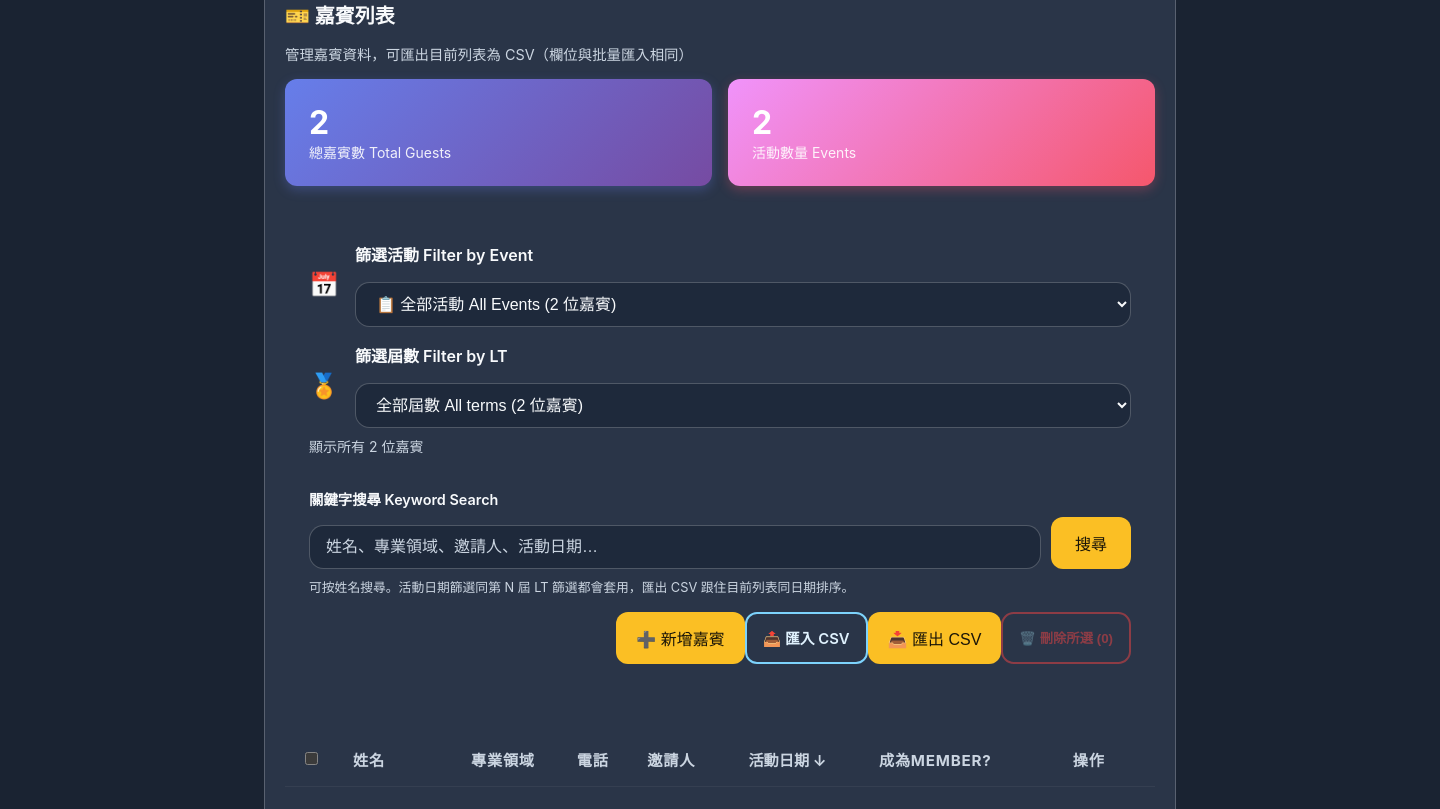
Scenario: GuestsPage CSV export › filters the list by the stored LT term
The width and height of the screenshot is (1440, 809).
(page scrolled)
Step 1. Select "第 3 屆 LT (1 位嘉賓)" in the dropdown labelled "篩選屆數 Filter by LT" → [743, 405], box [355,383,1131,428]
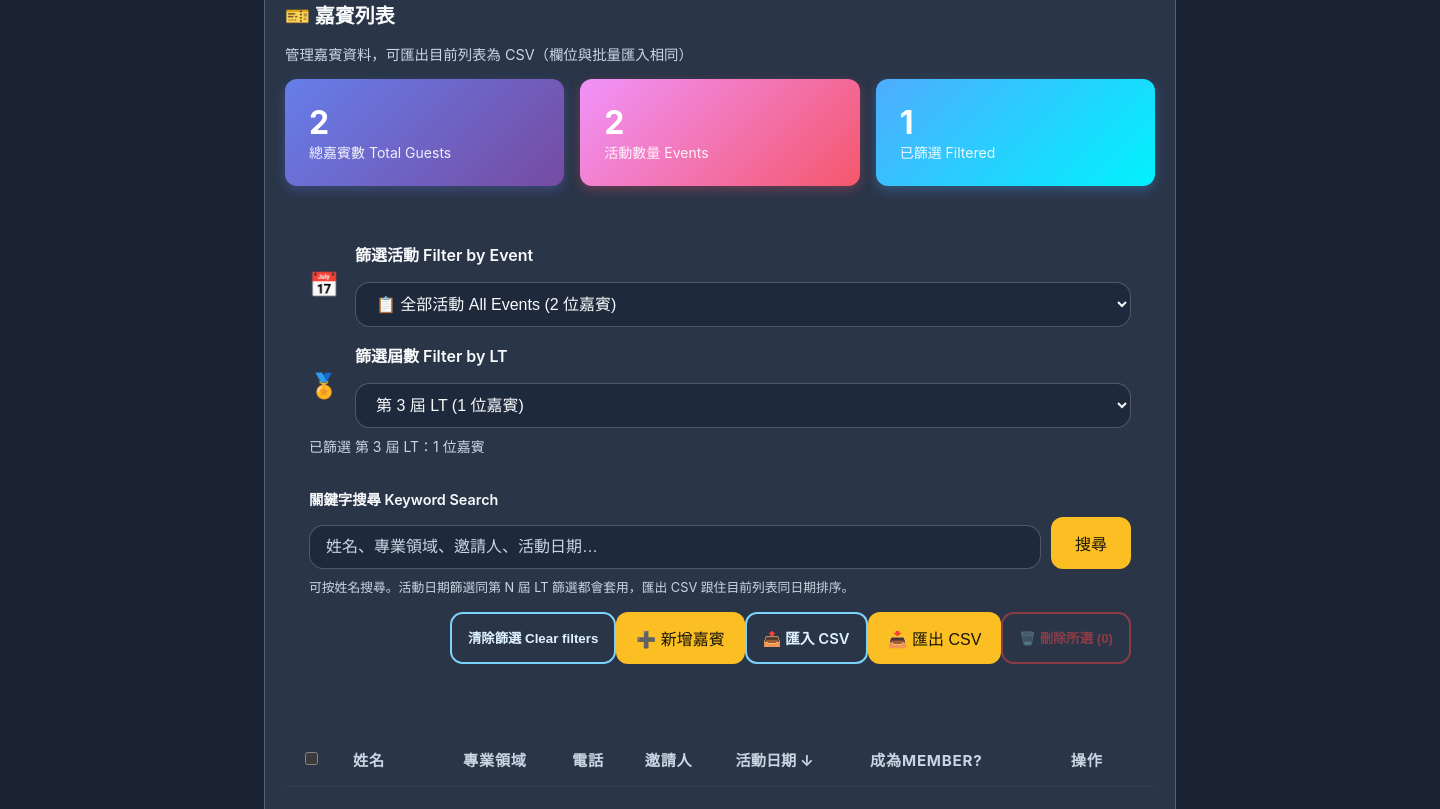
Expected: the text "已篩選 第 3 屆 LT：1 位嘉賓" is shown, [309,438,485,455]
Step 2. Type "Cara" into the search field labelled "關鍵字搜尋 Keyword Search" → [675, 547], box [309,525,1041,569]
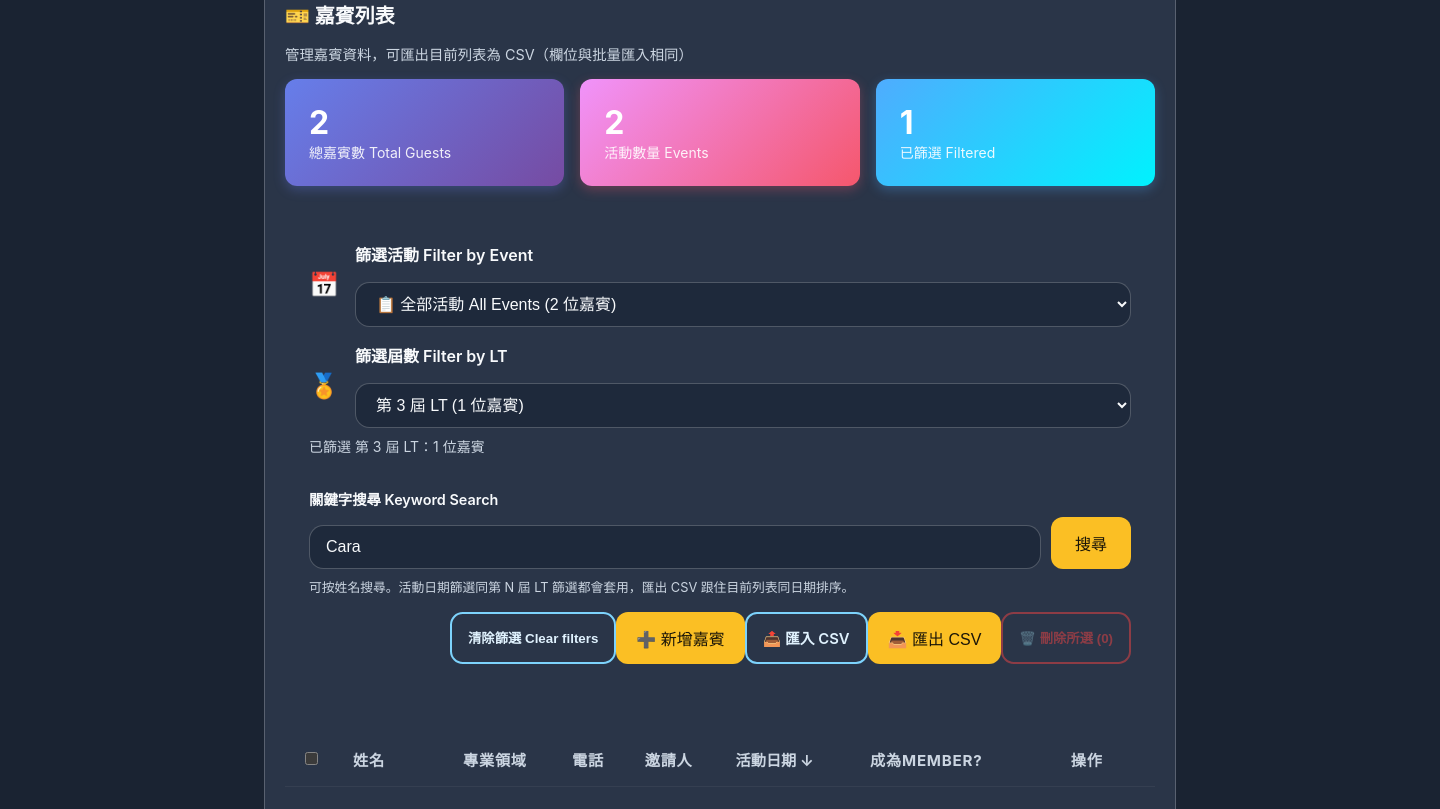
Step 3. Click the button "搜尋" → [1091, 543], box [1051,517,1131,569]
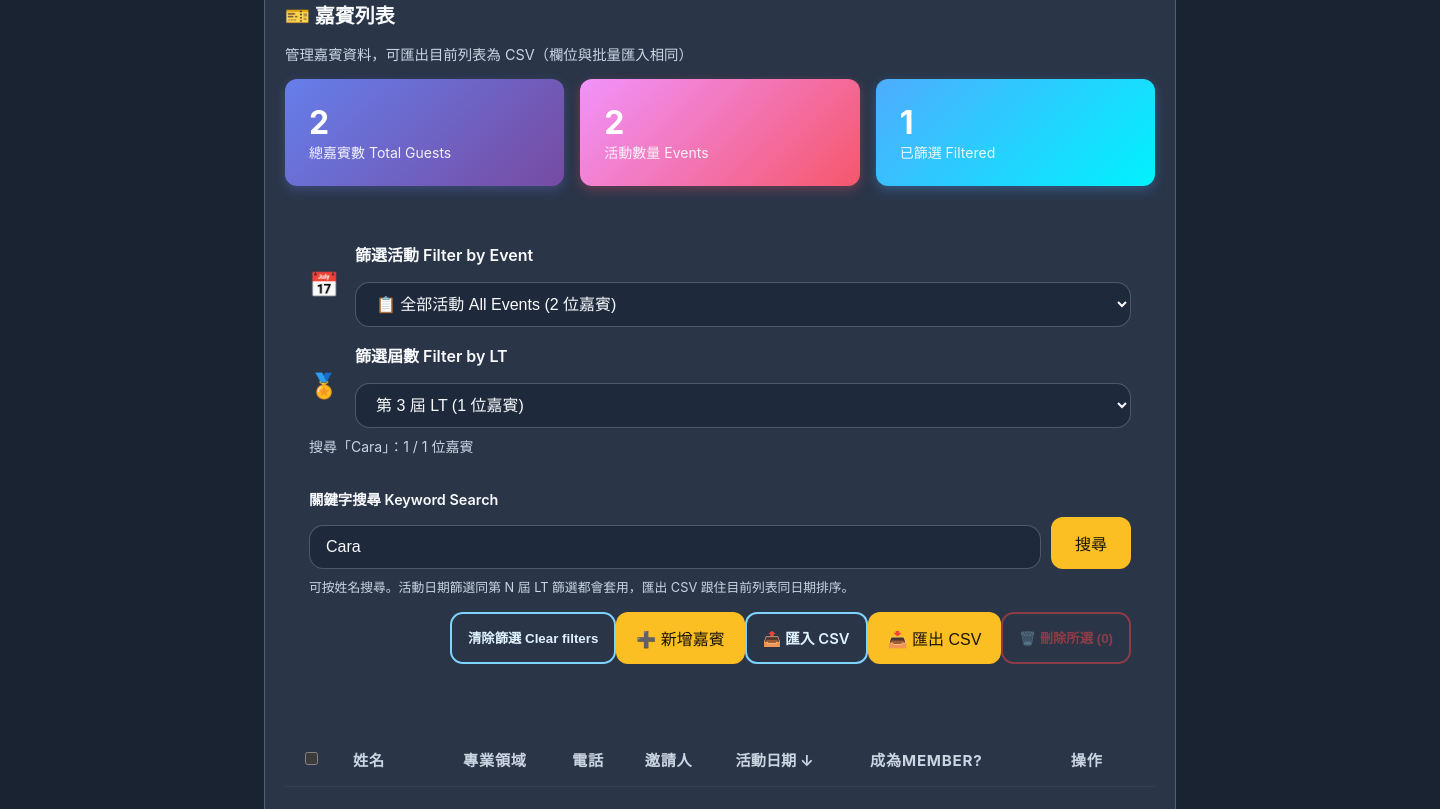
Step 4. Click the button "📥 匯出 CSV" → [934, 638], box [868,612,1001,664]
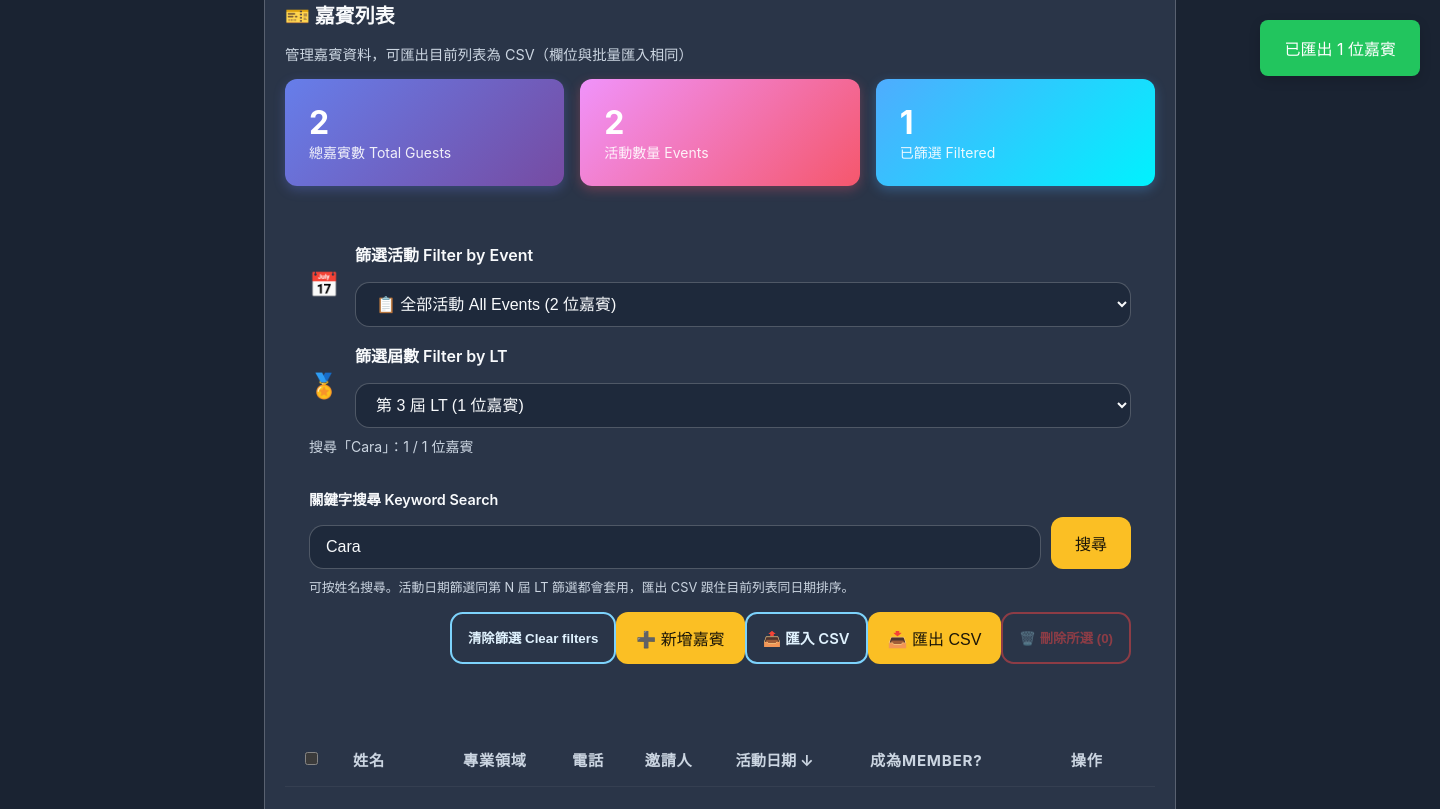
Step 5. Click the button "清除篩選 Clear filters" → [533, 638], box [450,612,616,664]
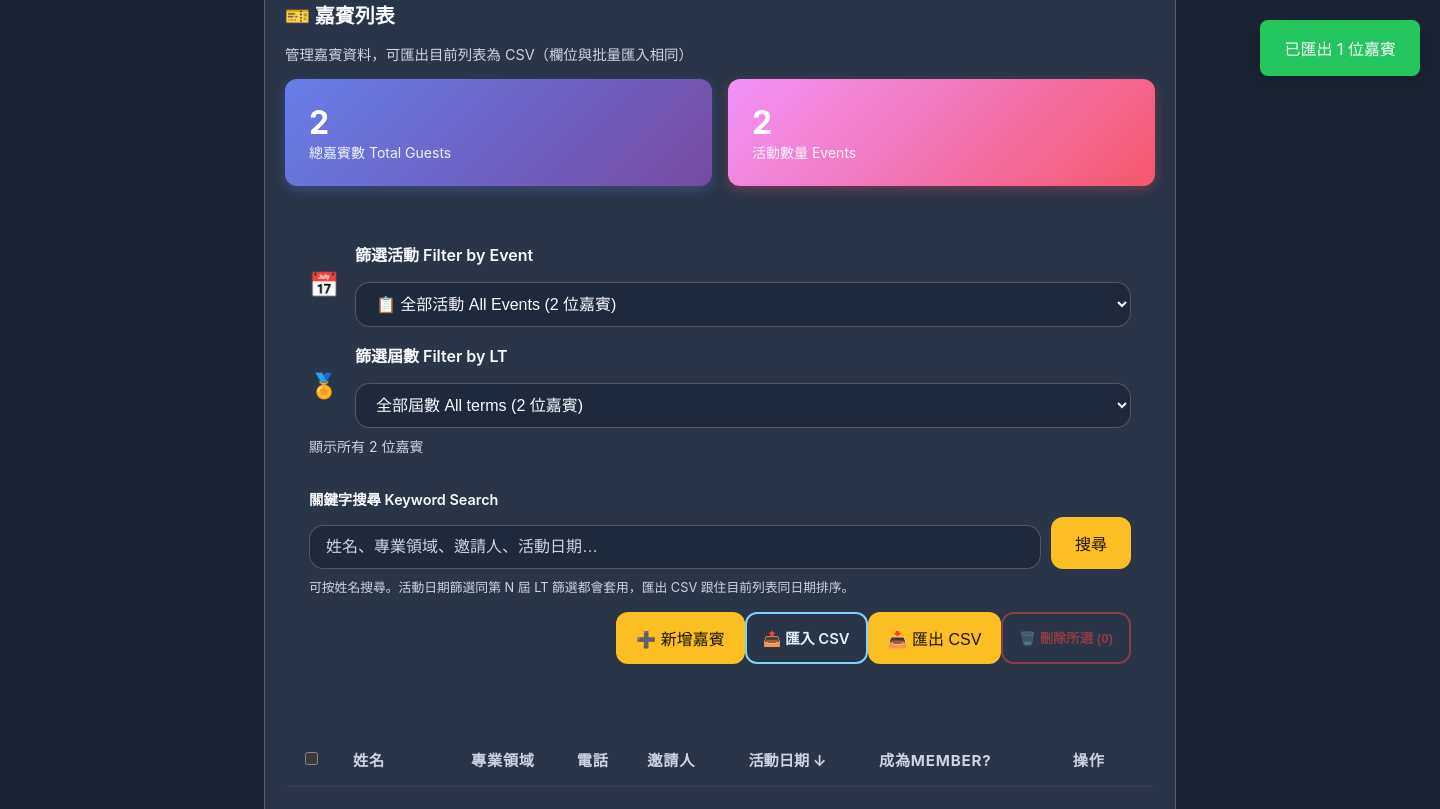
Expected: the search field labelled "關鍵字搜尋 Keyword Search" is empty, [309,525,1041,569]
